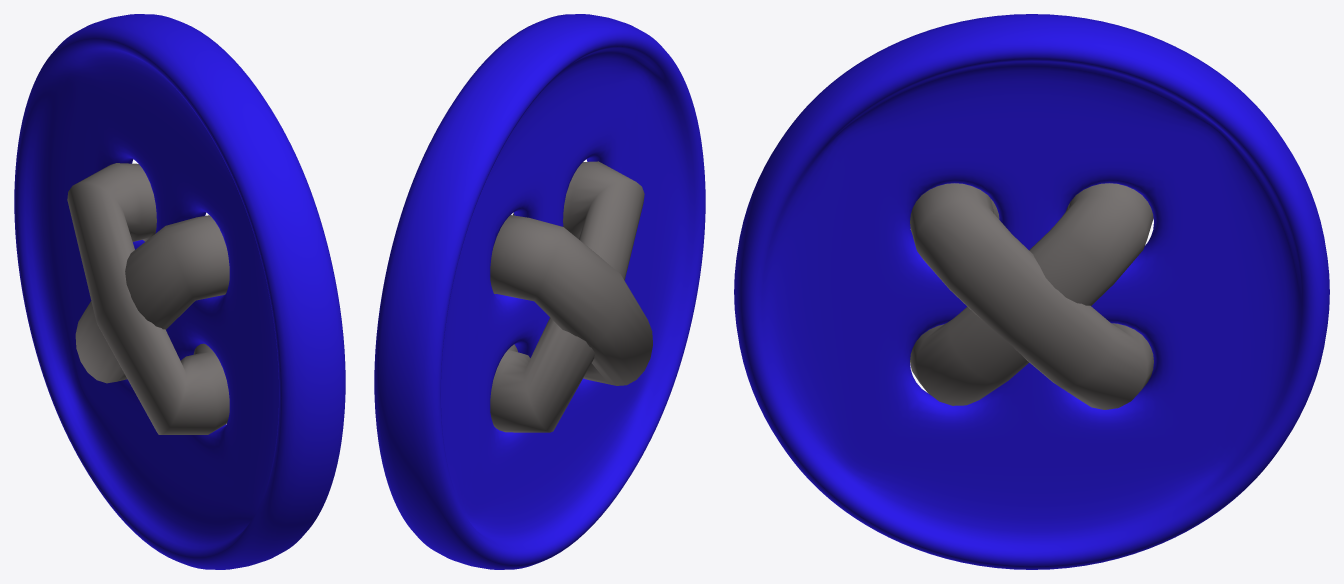
Rendered from shieldsmoothfbx.fbx.
The picture shows the model from 3 angles, left to right: view 1: azimuth 30°, elevation 25°; view 2: azimuth 150°, elevation 25°; view 3: azimuth 270°, elevation 25°; orthographic projection. The views are drawn at different scales.
Parts seen in each view (by area): view 1: shield, Vert.001, Vert.002; view 2: shield, Vert.001, Vert.002; view 3: shield, Vert.002, Vert.001.
Part boxes in pixels (x1,y1,x2,y2): shield: (14, 14, 345, 569); Vert.001: (67, 163, 229, 434); Vert.002: (75, 215, 229, 383); shield: (374, 14, 705, 569); Vert.001: (490, 215, 652, 385); Vert.002: (490, 161, 644, 432); shield: (734, 14, 1329, 569); Vert.002: (910, 183, 1153, 409); Vert.001: (910, 183, 1153, 405).
Size of the model in its own units: 57.04 by 213 by 213.
